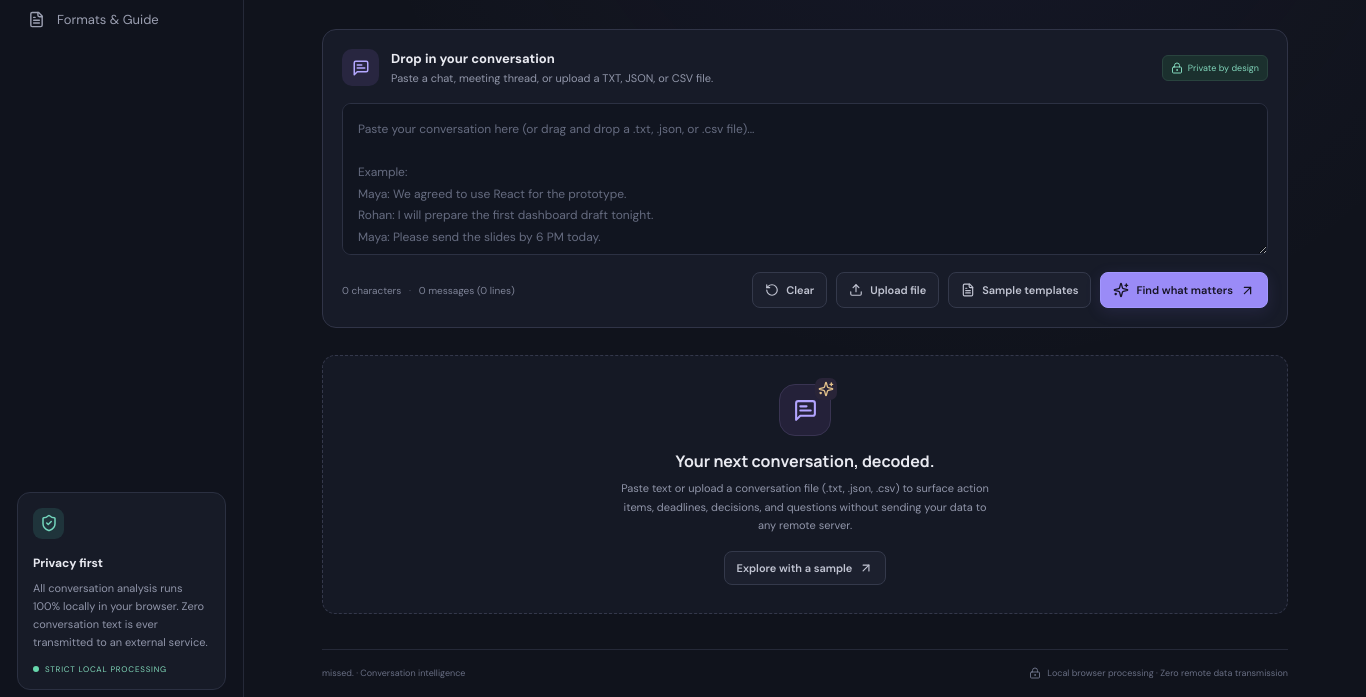
Test: UI State & Input Synchronization Tests › clears stale results and stale success banner immediately when textarea is edited
The width and height of the screenshot is (1366, 697).
(page scrolled)
// Load sample and run analysis
Click the button "Explore with a sample": (805, 568) [724,551,886,585]
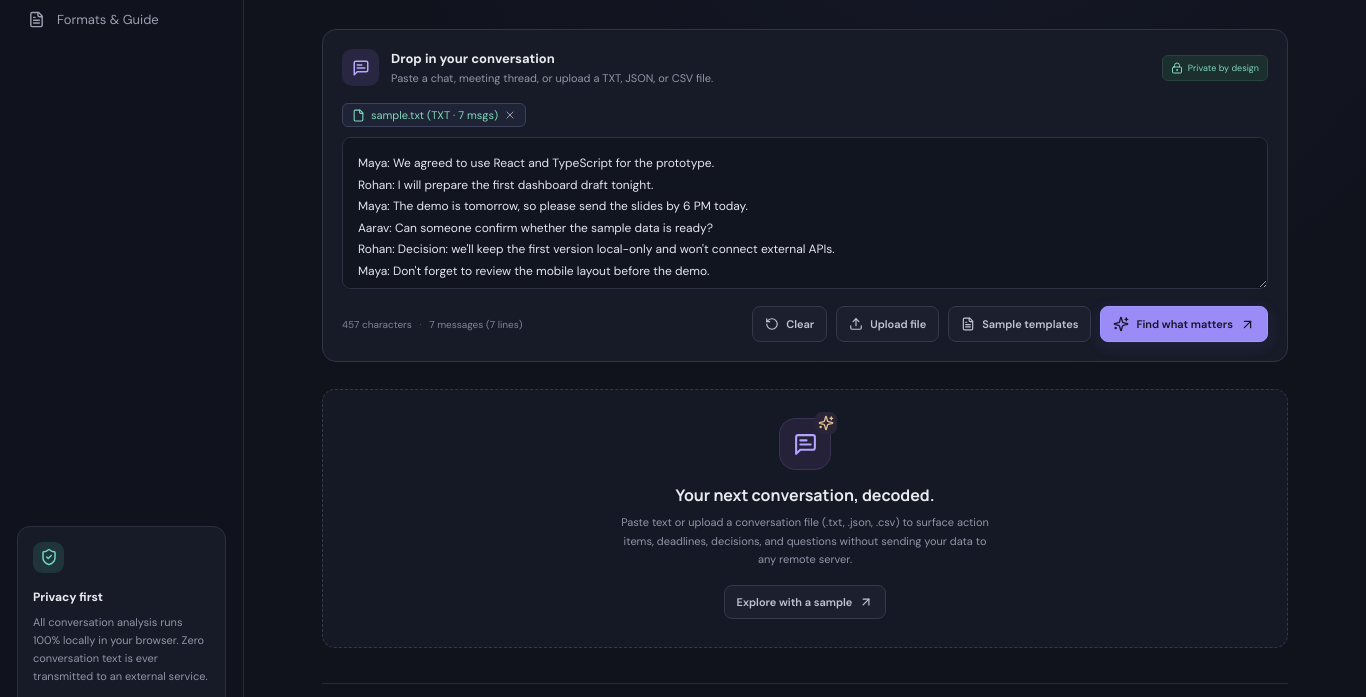
Click the button "Find what matters": (1184, 324) [1100,306,1268,342]
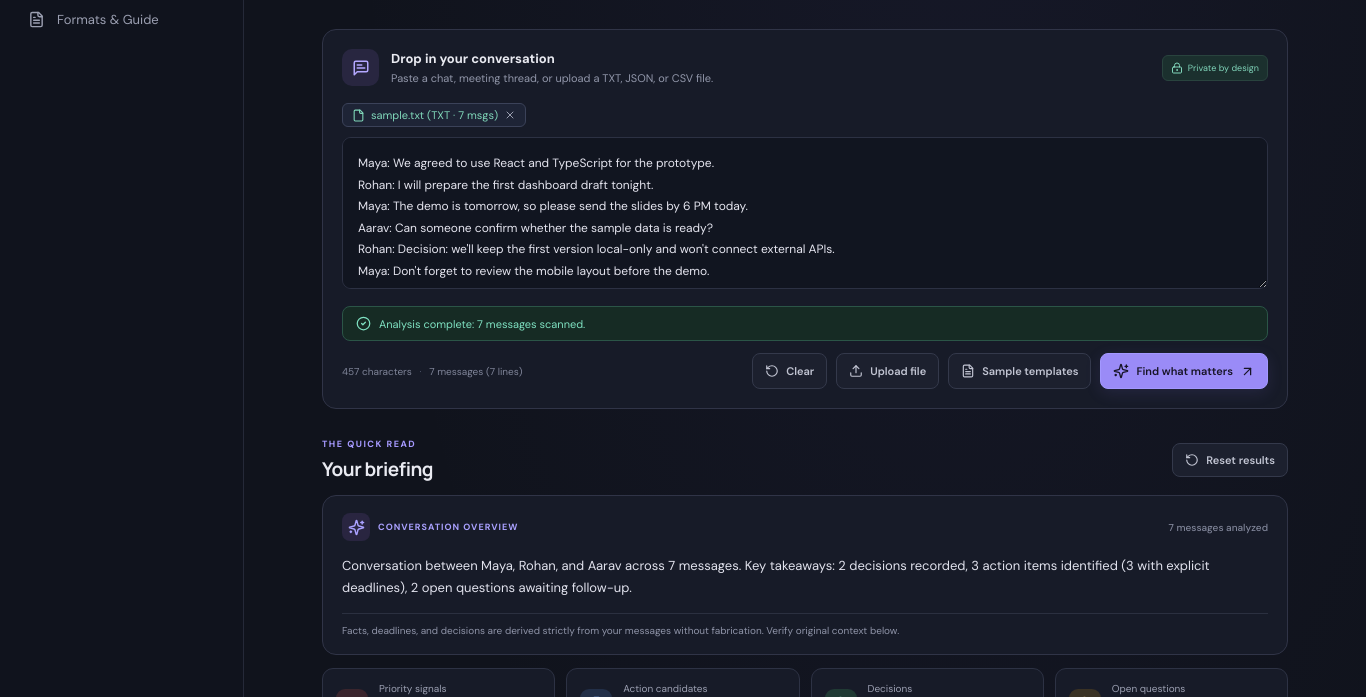
expect the heading "Your briefing" is shown: met, box [322,456,433,482]
expect the message "Analysis complete: 7 messages scanned." is shown: met, box [342,306,1268,341]
expect the text "Analysis complete: 7 messages scanned." is shown: met, box [379,316,585,330]
// User edits the textarea
Replace the text in the text box named "conversation text" with "Charlie: A new conversation started.": (805, 213) [342,137,1268,289]
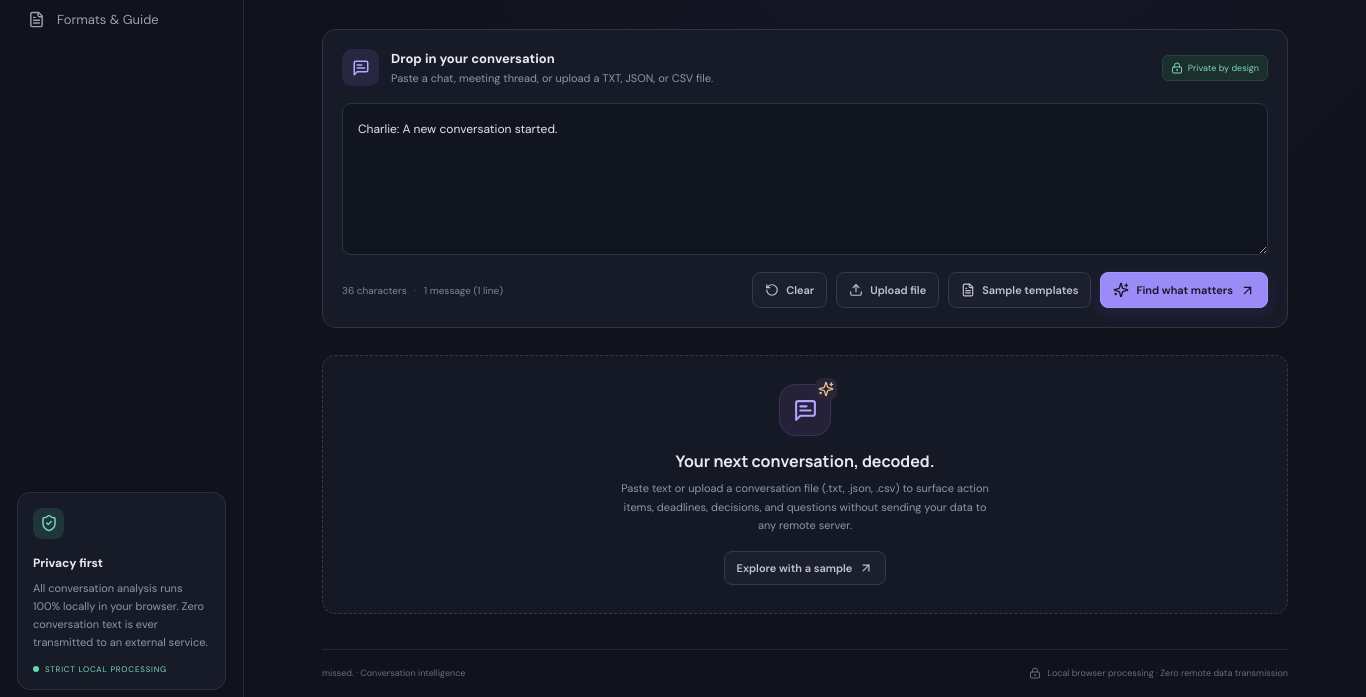
expect the heading "Your briefing" is gone: met
expect the text "Analysis complete" is gone: met
